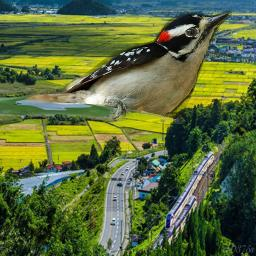Woodpecker: (25, 6, 232, 124)
